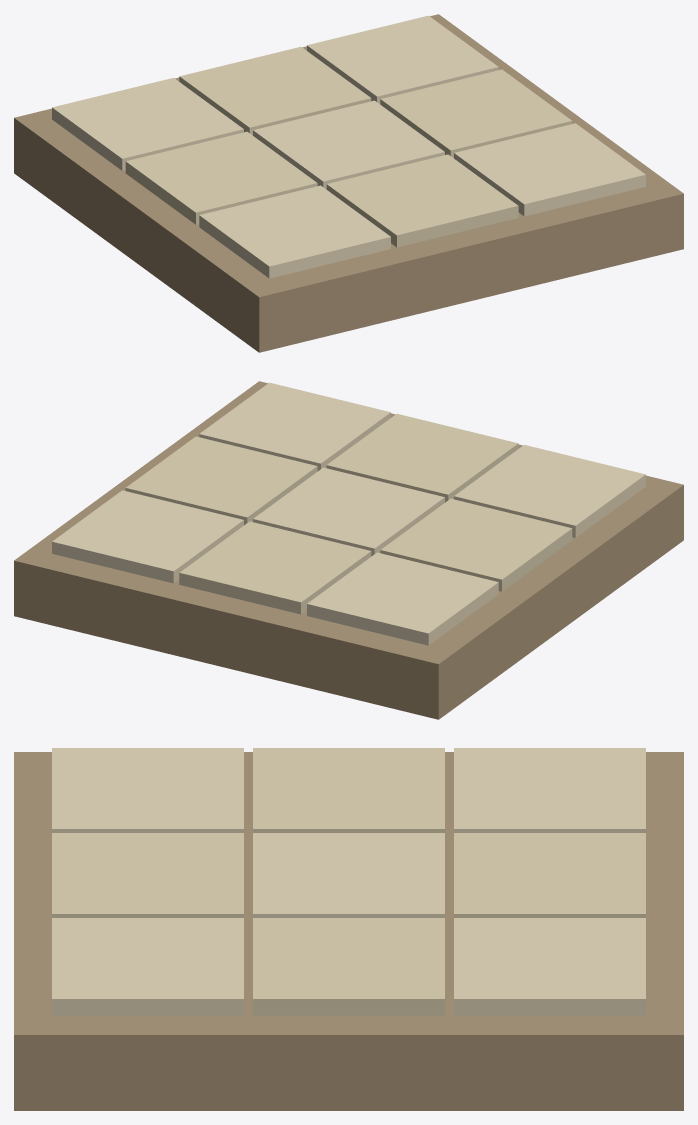
Rendered from city-module-platform-lod1.glb.
3 views of the same model, one above another, from view 1: azimuth 30°, elevation 25°; view 2: azimuth 150°, elevation 25°; view 3: azimuth 270°, elevation 25° (orthographic). The views are drawn at different scales.
Visible parts, largest first — view 1: module_platform_base, module_platform_tile_1_1, module_platform_tile_1_2, module_platform_tile_1_3, module_platform_tile_2_1, module_platform_tile_3_1, module_platform_tile_2_3, module_platform_tile_3_2, module_platform_tile_3_3, module_platform_tile_2_2; view 2: module_platform_base, module_platform_tile_3_1, module_platform_tile_3_2, module_platform_tile_3_3, module_platform_tile_2_1, module_platform_tile_1_1, module_platform_tile_2_3, module_platform_tile_1_2, module_platform_tile_1_3, module_platform_tile_2_2; view 3: module_platform_base, module_platform_tile_1_3, module_platform_tile_2_3, module_platform_tile_3_3, module_platform_tile_1_1, module_platform_tile_1_2, module_platform_tile_2_1, module_platform_tile_2_2, module_platform_tile_3_1, module_platform_tile_3_2.
Boxes of the visible parts, <box> form: module_platform_base: <box>14,14,683,352</box>; module_platform_tile_1_1: <box>199,185,390,278</box>; module_platform_tile_1_2: <box>326,154,518,247</box>; module_platform_tile_1_3: <box>454,123,645,216</box>; module_platform_tile_2_1: <box>125,131,317,224</box>; module_platform_tile_3_1: <box>52,78,243,170</box>; module_platform_tile_2_3: <box>380,69,572,158</box>; module_platform_tile_3_2: <box>179,46,371,135</box>; module_platform_tile_3_3: <box>307,15,498,104</box>; module_platform_tile_2_2: <box>253,100,444,189</box>; module_platform_base: <box>14,381,683,719</box>; module_platform_tile_3_1: <box>307,552,498,645</box>; module_platform_tile_3_2: <box>179,521,371,614</box>; module_platform_tile_3_3: <box>52,490,243,583</box>; module_platform_tile_2_1: <box>380,498,572,591</box>; module_platform_tile_1_1: <box>454,445,645,537</box>; module_platform_tile_2_3: <box>125,436,317,525</box>; module_platform_tile_1_2: <box>326,413,518,502</box>; module_platform_tile_1_3: <box>199,382,390,471</box>; module_platform_tile_2_2: <box>253,467,444,556</box>; module_platform_base: <box>14,752,683,1110</box>; module_platform_tile_1_3: <box>52,918,243,1015</box>; module_platform_tile_2_3: <box>253,918,444,1015</box>; module_platform_tile_3_3: <box>454,918,645,1015</box>; module_platform_tile_1_1: <box>52,748,243,832</box>; module_platform_tile_1_2: <box>52,833,243,917</box>; module_platform_tile_2_1: <box>253,748,444,832</box>; module_platform_tile_2_2: <box>253,833,444,917</box>; module_platform_tile_3_1: <box>454,748,645,832</box>; module_platform_tile_3_2: <box>454,833,645,917</box>.
Bounding box in the file's own units: 0.44 × 0.0695 × 0.44.
